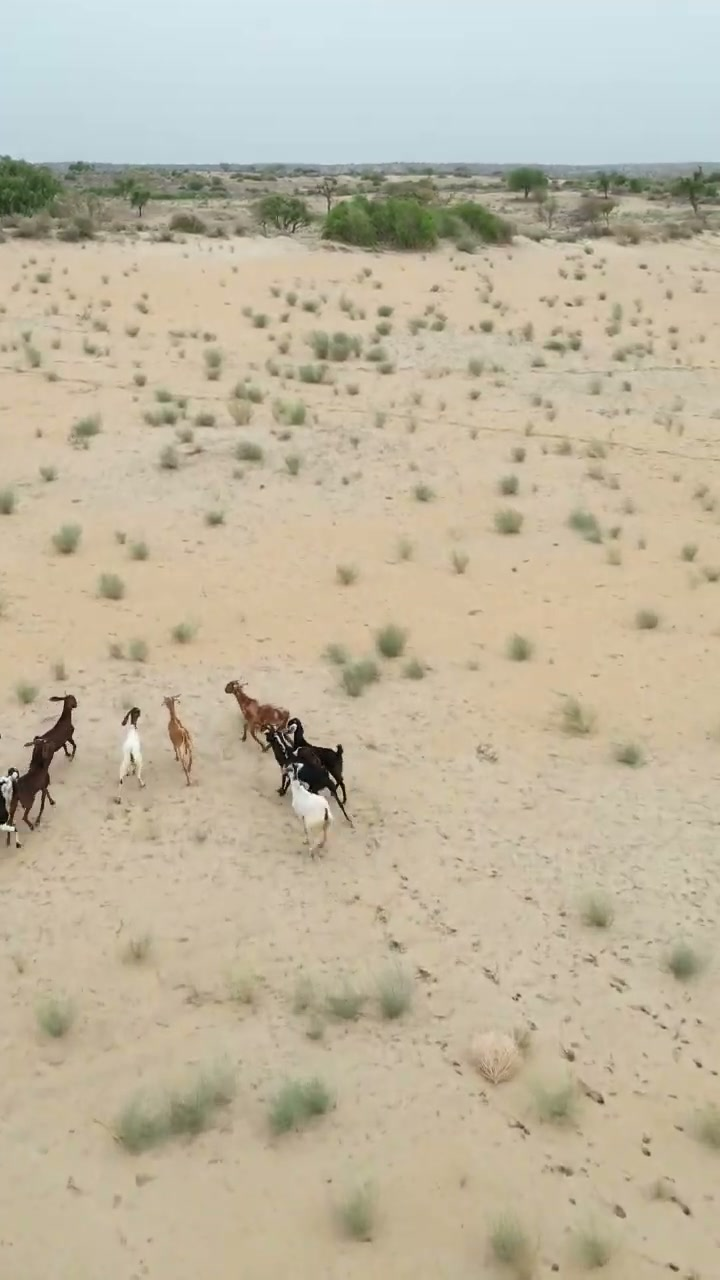animal_footprint: (0, 792, 691, 1244)
